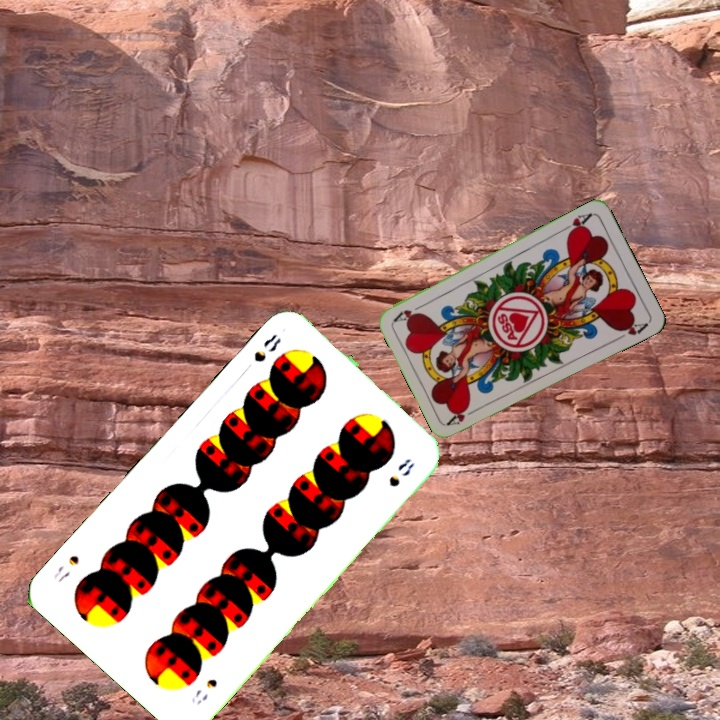HA: (557, 209, 595, 238), (444, 402, 482, 428)
S8: (250, 330, 284, 365), (187, 674, 220, 707)
